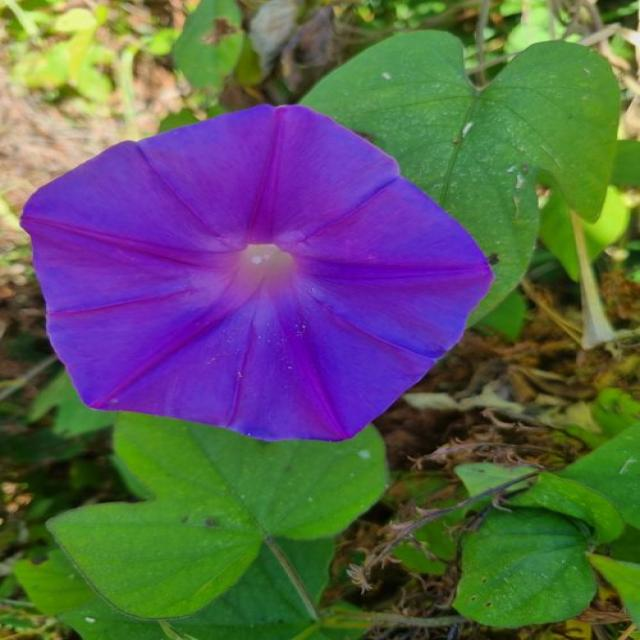ipomoea: (17, 102, 498, 444)
